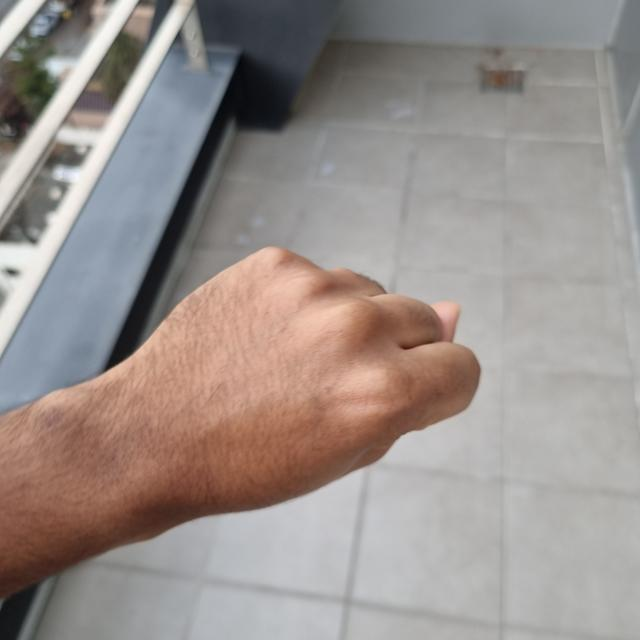Rock: (95, 248, 480, 518)
